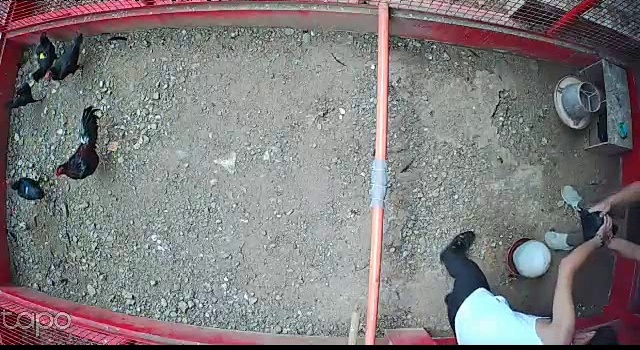Chicken: (44, 30, 91, 87), (30, 28, 67, 91), (1, 170, 60, 202), (1, 80, 49, 110)
Rooster: (53, 106, 124, 191)
Saddle_Color_Blue: (24, 187, 30, 196)
Saddle_Color_Yellow: (41, 52, 49, 62)
